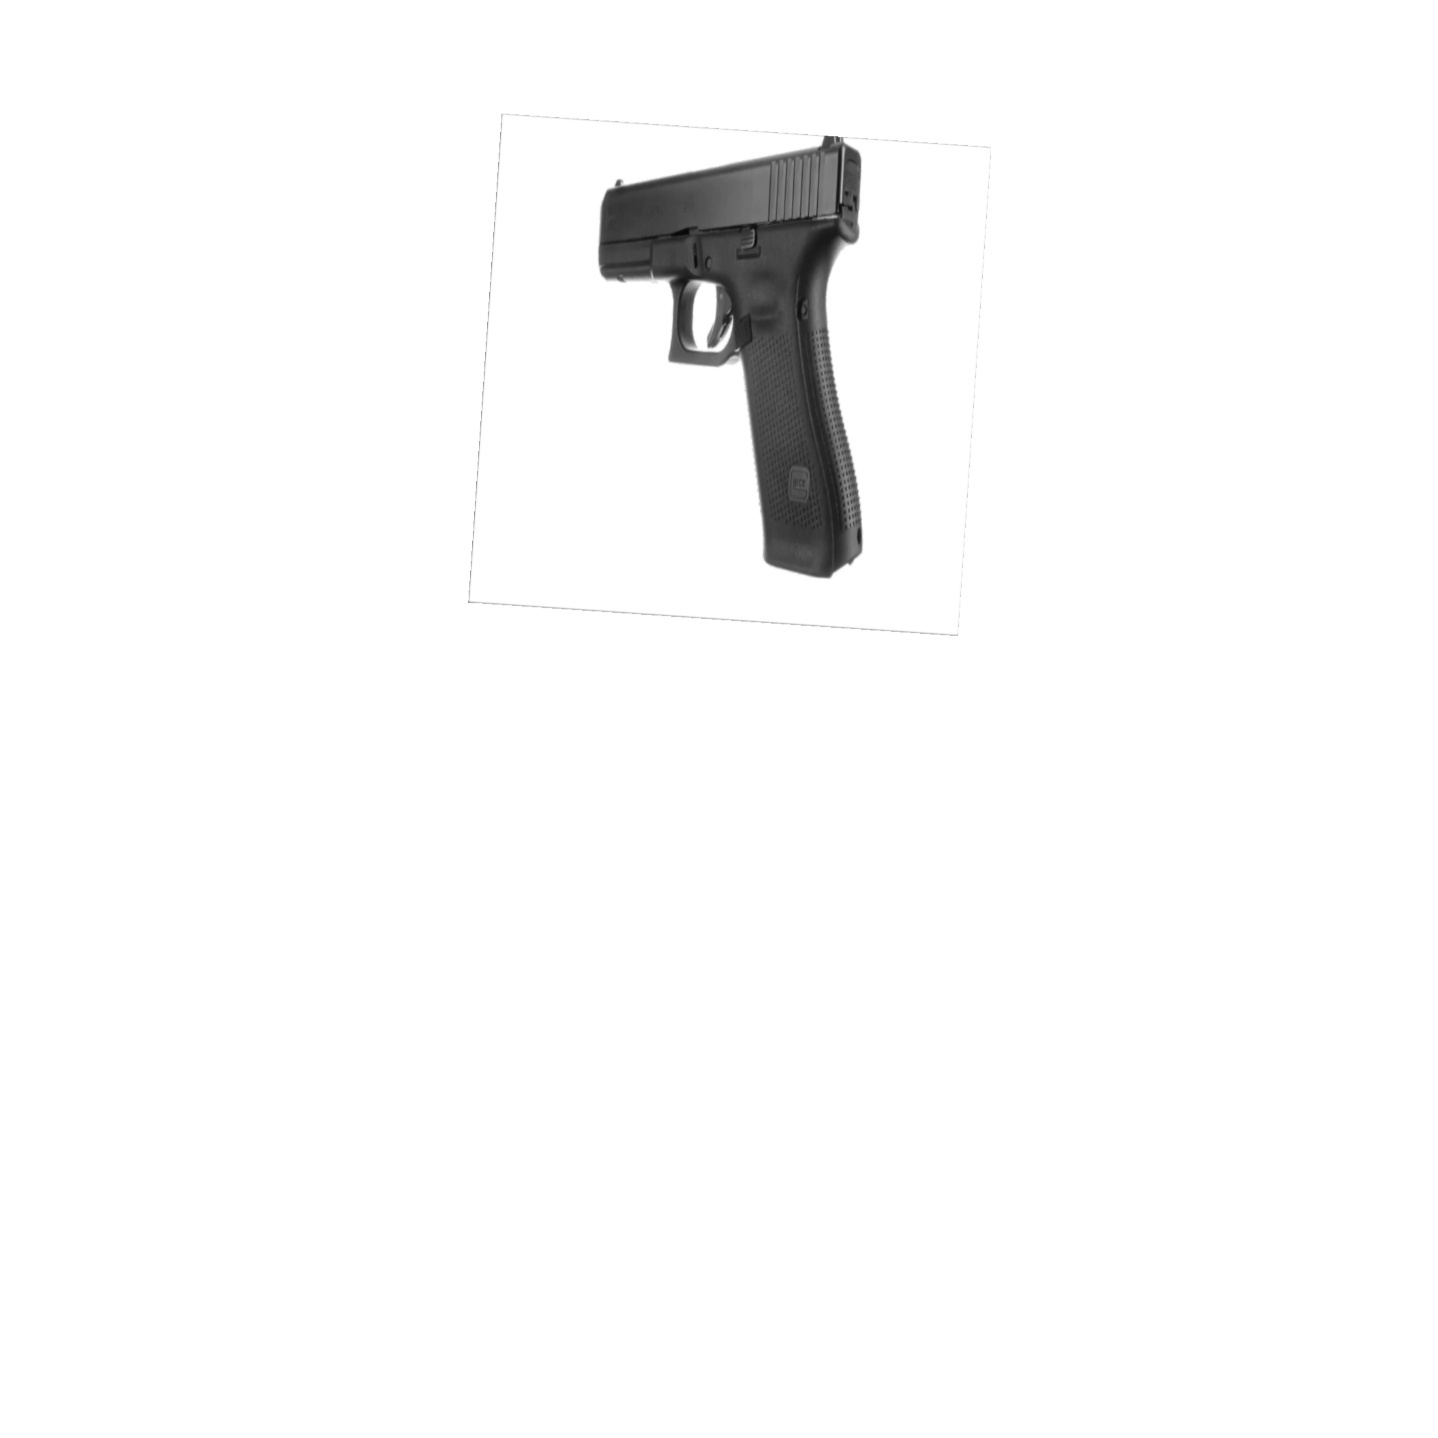gun: (573, 124, 880, 589)
